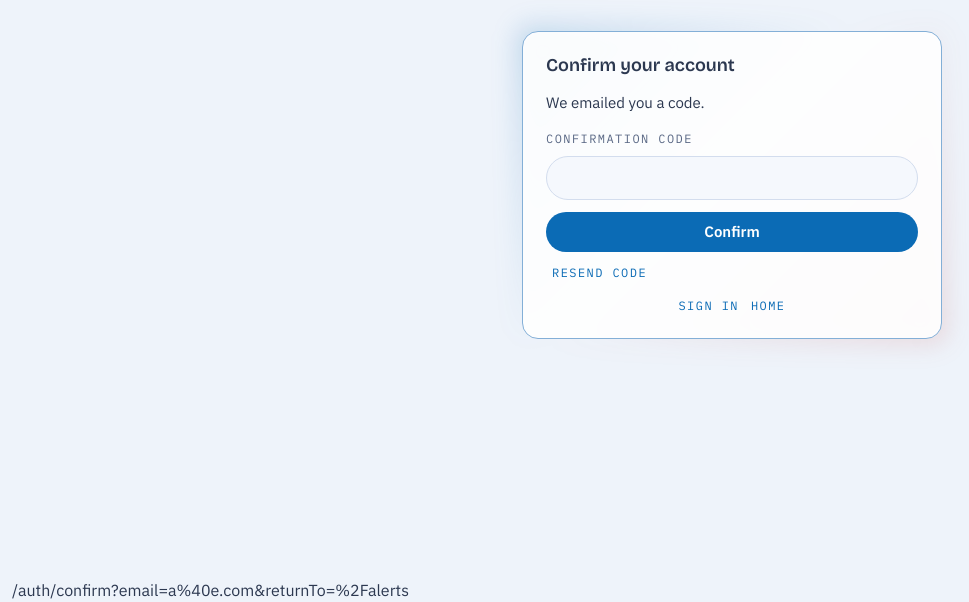
Test: ConfirmPage › without a pending sign-up shows 'Your account is ready' with a Sign in button that keeps returnTo, and completes no intent
Type "123456" into the field labelled "Confirmation code" at (732, 178), box [546,156,918,200]
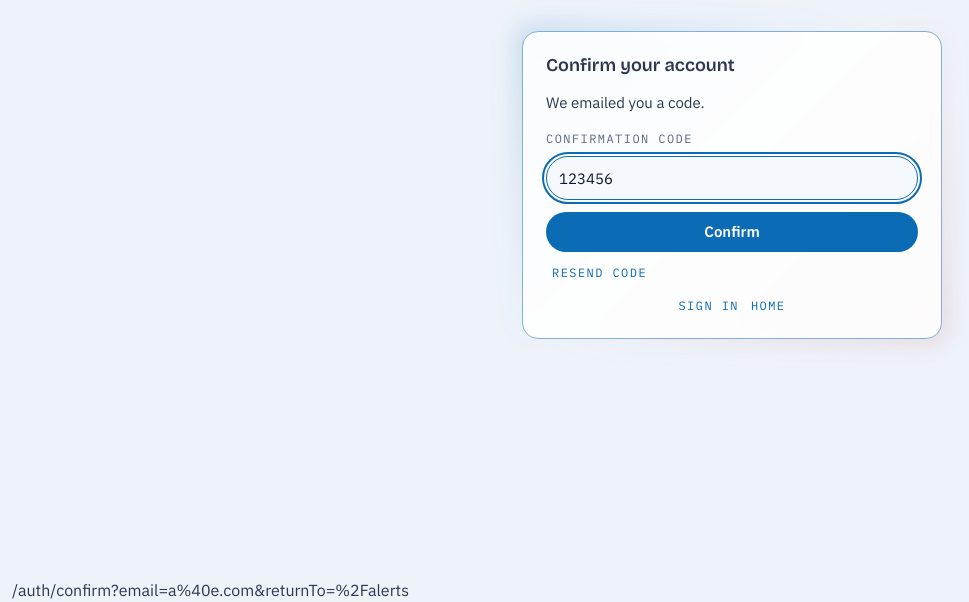
Click the button with test id "auth-submit" at (732, 232), box [546,212,918,252]
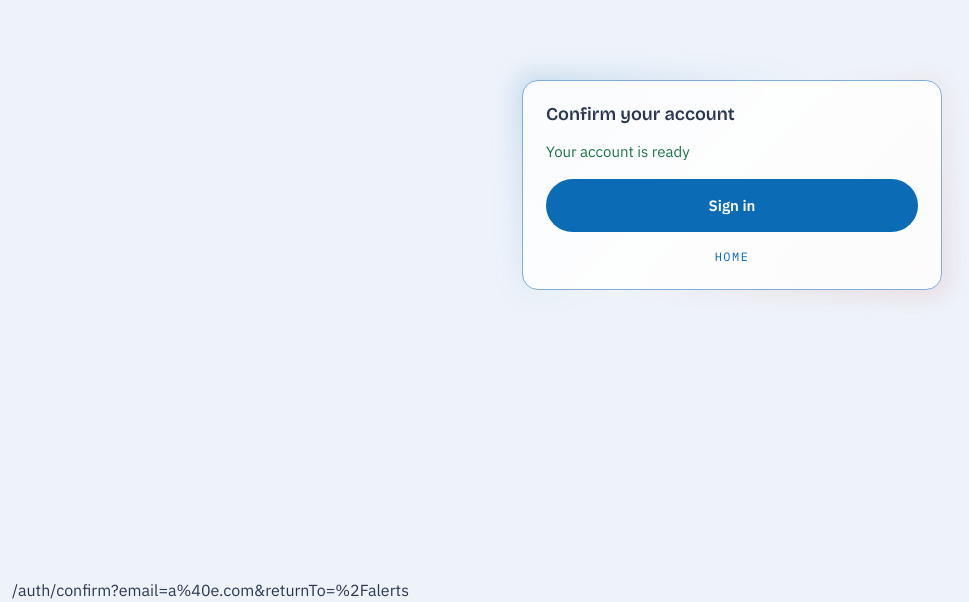
Expected: the text "Your account is ready" is shown, [546,142,690,161]
